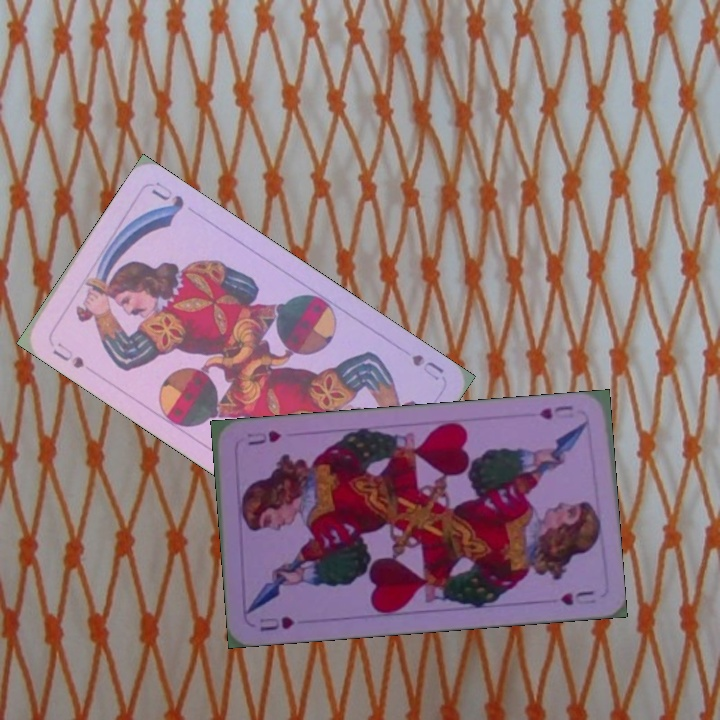HU: (256, 612, 297, 634), (535, 401, 575, 422)
SU: (407, 350, 447, 384), (49, 338, 87, 372)
